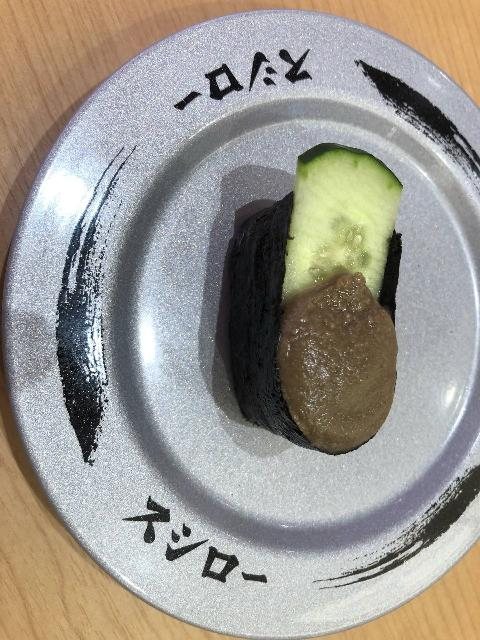janwhite: (0, 78, 240, 603), (253, 469, 480, 640), (243, 0, 480, 159)
